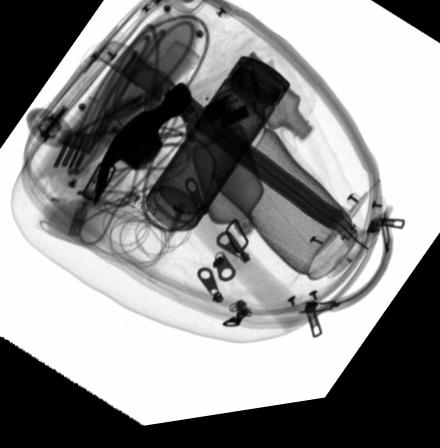Hammer: (92, 87, 310, 343)
